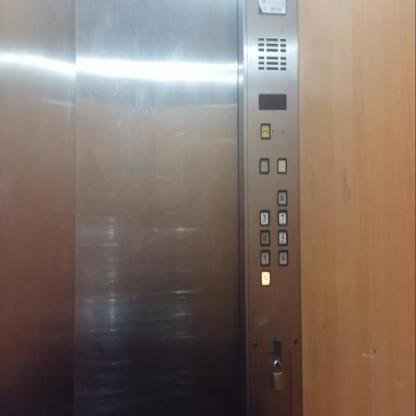1: (260, 249, 270, 266)
2: (259, 229, 270, 246)
3: (260, 208, 270, 226)
4: (278, 249, 288, 266)
5: (278, 228, 288, 245)
7: (278, 209, 288, 226)
8: (277, 188, 288, 206)
G: (260, 269, 271, 287)
call: (260, 122, 270, 140)
empty: (259, 156, 269, 174), (277, 156, 287, 174)
led: (258, 92, 287, 110)
